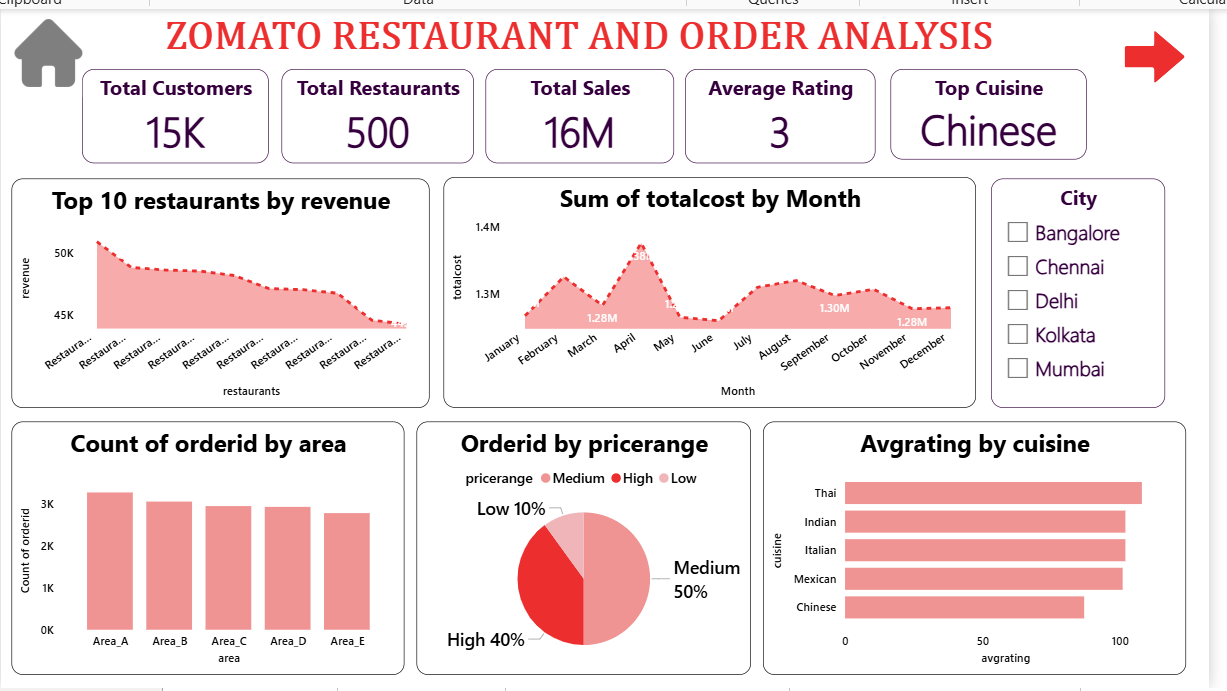

This screenshot's page, from the dashboard's own definition file:
{"tool":"powerbi","page":{"name":"Dashboard","canvas":[1280,720],"ordinal":8},"visuals":[{"type":"card","title":"Total Customers","fields":{"Values":["Count(zomato_orders.customerid)"]},"box":[86.3,64,198,100],"z":0},{"type":"card","title":"Total Restaurants","fields":{"Values":["zomato_orders.Total Restaurants"]},"box":[296.9,64,203.9,100],"z":1000},{"type":"card","title":"Total Sales","fields":{"Values":["Sum(zomato_orders.totalcost)"]},"box":[513.3,64,200,100],"z":2000},{"type":"card","title":"Average Rating","fields":{"Values":["Avg(zomato_orders.customerrating)"]},"box":[725.9,64,202,100],"z":3000},{"type":"textbox","box":[135.2,0,956,79.5],"z":4000},{"type":"barChart","title":"Avgrating by cuisine","fields":{"Y":["CountNonNull(zomato_restaurants.city)"],"Category":["zomato_restaurants.cuisine"]},"box":[808,437.4,448.6,268.8],"z":5000},{"type":"areaChart","title":"Top 10  restaurants by revenue","fields":{"Category":["zomato_restaurants.restaurantname"],"Y":["Sum(zomato_orders.totalcost)"]},"box":[11.8,179.8,443.1,243.1],"z":6000},{"type":"slicer","title":"City","fields":{"Values":["zomato_restaurants.city"]},"box":[1049.8,179.7,184.5,243.4],"z":7000},{"type":"columnChart","fields":{"Category":["zomato_restaurants.area"],"Y":["CountNonNull(zomato_orders.orderid)"]},"box":[11.1,437.4,416.7,268.8],"z":8000},{"type":"areaChart","fields":{"Y":["Sum(zomato_orders.totalcost)"],"Category":["zomato_orders.orderdate.Variation.Date Hierarchy.Month"]},"box":[470,178.9,564.7,245],"z":9000},{"type":"pieChart","title":"Orderid by pricerange","fields":{"Category":["zomato_restaurants.pricerange"],"Y":["Count(zomato_orders.orderid)"]},"box":[440.6,437.4,354.7,268.8],"z":10000},{"type":"card","title":"Top Cuisine","fields":{"Values":["Min(zomato_restaurants.cuisine)"]},"box":[944,64,208,96],"z":11000},{"type":"shape","box":[1192.2,21.6,64.7,56.9],"z":12000},{"type":"actionButton","box":[14,0,71.9,93],"z":13000}]}

Visuals, with their boxes on the page's 1280x720 design canvas (x1, y1, x2, y2). These are canvas units, not pixel positions in the 1227x691 screenshot, which may show the page scaled, cropped or inside an application window:
"Total Customers" card: (86,64,284,164)
"Total Restaurants" card: (297,64,501,164)
"Total Sales" card: (513,64,713,164)
"Average Rating" card: (726,64,928,164)
textbox: (135,0,1091,80)
"Avgrating by cuisine" barChart: (808,437,1257,706)
"Top 10  restaurants by revenue" areaChart: (12,180,455,423)
"City" slicer: (1050,180,1234,423)
columnChart - zomato_restaurants.area x CountNonNull(zomato_orders.orderid): (11,437,428,706)
areaChart - Sum(zomato_orders.totalcost) x zomato_orders.orderdate.Variation.Date Hierarchy.Month: (470,179,1035,424)
"Orderid by pricerange" pieChart: (441,437,795,706)
"Top Cuisine" card: (944,64,1152,160)
shape: (1192,22,1257,78)
actionButton: (14,0,86,93)
